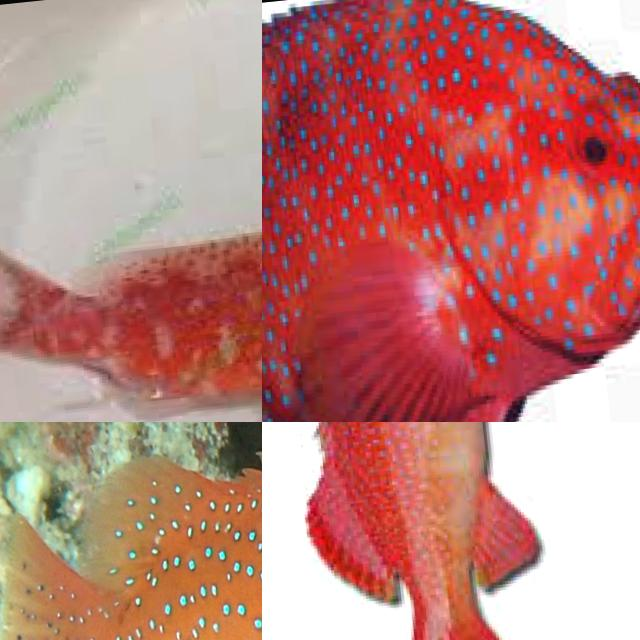Plectropomus-leopardus: (262, 0, 640, 422), (0, 143, 262, 422), (262, 422, 587, 640), (0, 422, 262, 640)
